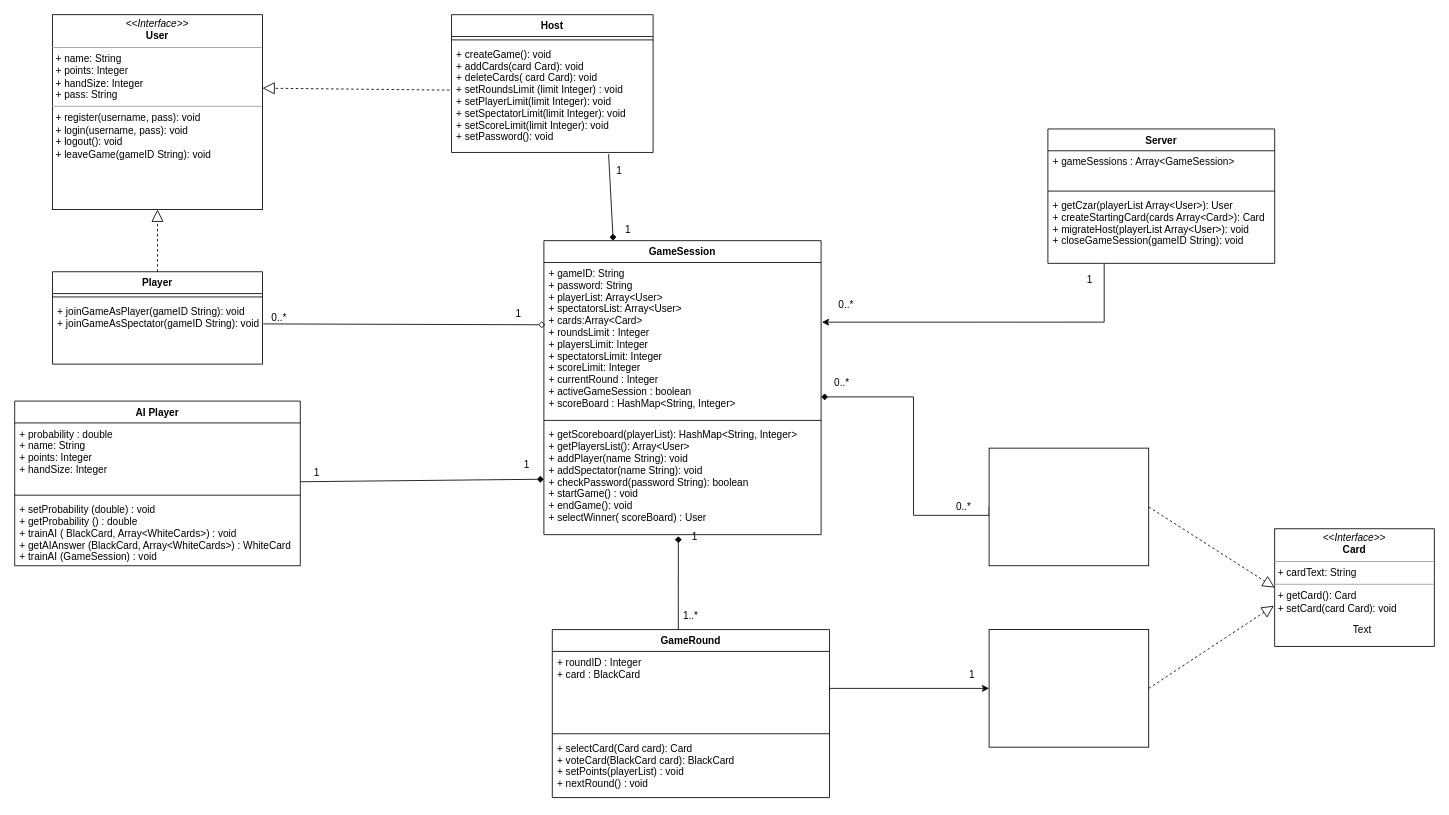
This 1449x815 diagram has some shape labels left out. Here are the shapes that lost their labels. From the top down, the centre of each, then its label:
At point 1068,506: "WhiteCard + + getCard(): WhiteCard".
At point 1068,688: "BlackCard + + getCard(): BlackCard".
